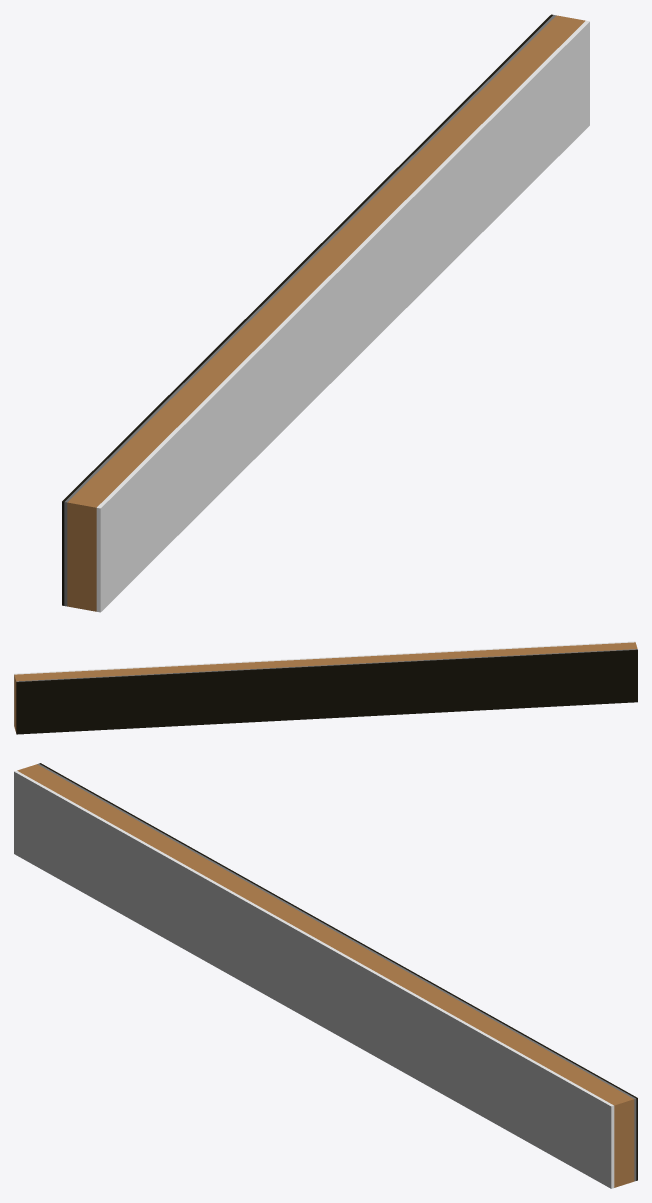
The model's file is rac_basic_sample_project_Ceiling_IfcWallStandardCase.dae.
The picture shows the model from 3 angles, top to bottom: view 1: azimuth 30°, elevation 25°; view 2: azimuth 150°, elevation 25°; view 3: azimuth 270°, elevation 25°; orthographic projection. The views are drawn at different scales.
Parts seen in each view (by area): view 1: 27lifGE4TF58A1JhY9194T; view 2: 27lifGE4TF58A1JhY9194T; view 3: 27lifGE4TF58A1JhY9194T.
Part boxes in pixels (bbox=[...]): 27lifGE4TF58A1JhY9194T: bbox=[62, 14, 589, 612]; 27lifGE4TF58A1JhY9194T: bbox=[14, 641, 637, 734]; 27lifGE4TF58A1JhY9194T: bbox=[14, 763, 637, 1188].
Bounding box in the file's own units: 4.91 × 3.77 × 0.55.
